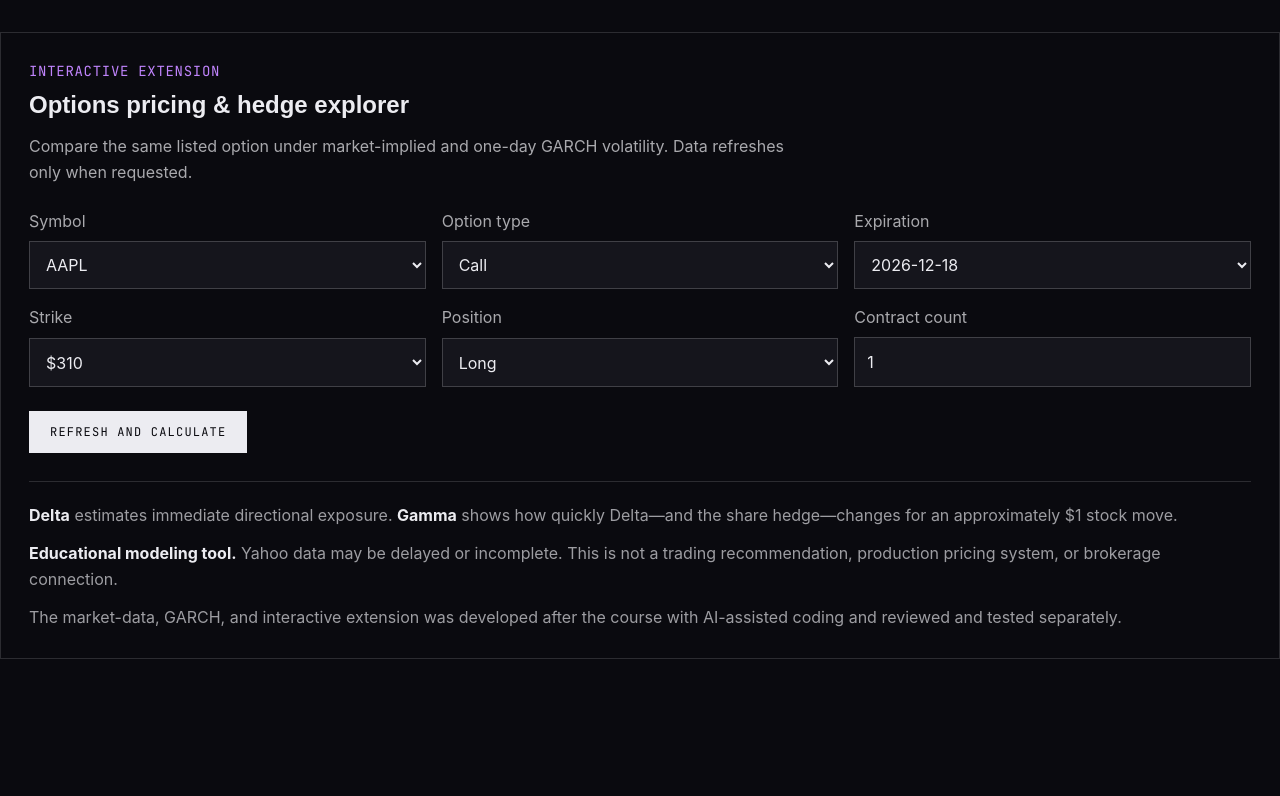
Test: renders implied and GARCH calculations after a successful refresh
Click the button "Refresh and calculate".
click(138, 432)  # box [29,411,247,453]
(page scrolled)
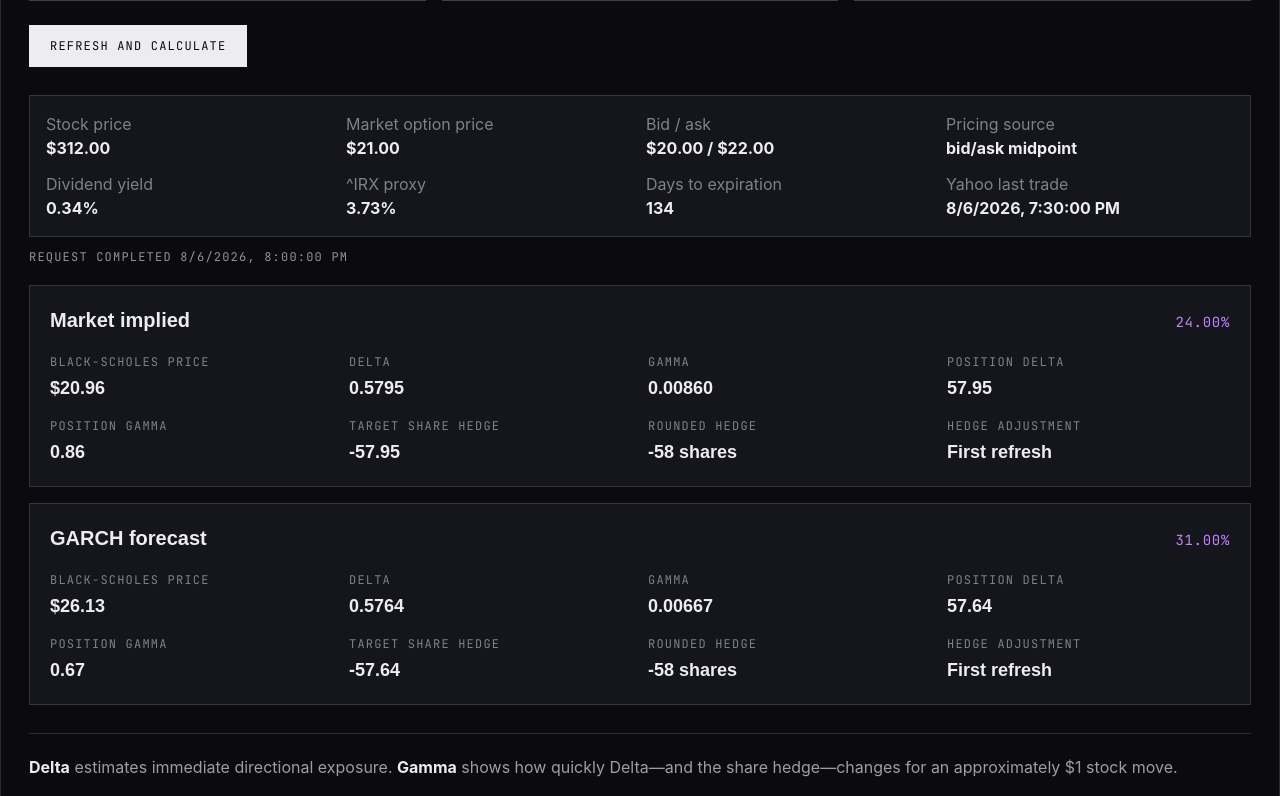
Check: the element with test id "options-results" shows "Market implied", box [50,309,190,331]
Check: the element with test id "options-results" shows "GARCH forecast", box [50,527,207,549]
Check: the element with test id "options-results" shows "Target share hedge", box [349,418,500,434]
